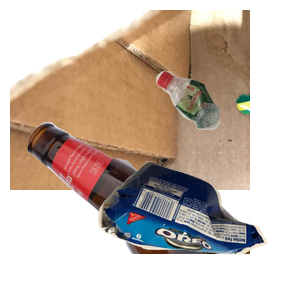cardboard: (10, 10, 250, 190)
glass: (25, 120, 265, 300)
plastic: (153, 68, 300, 190)
trash: (95, 158, 300, 300)
